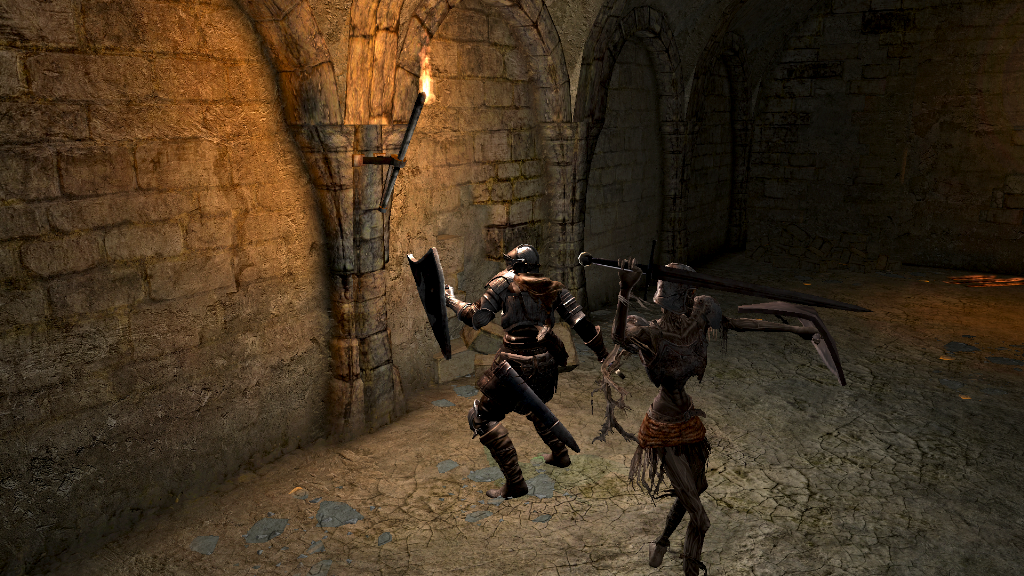player: (403, 244, 627, 500)
undeadSoldier: (609, 256, 847, 576)
